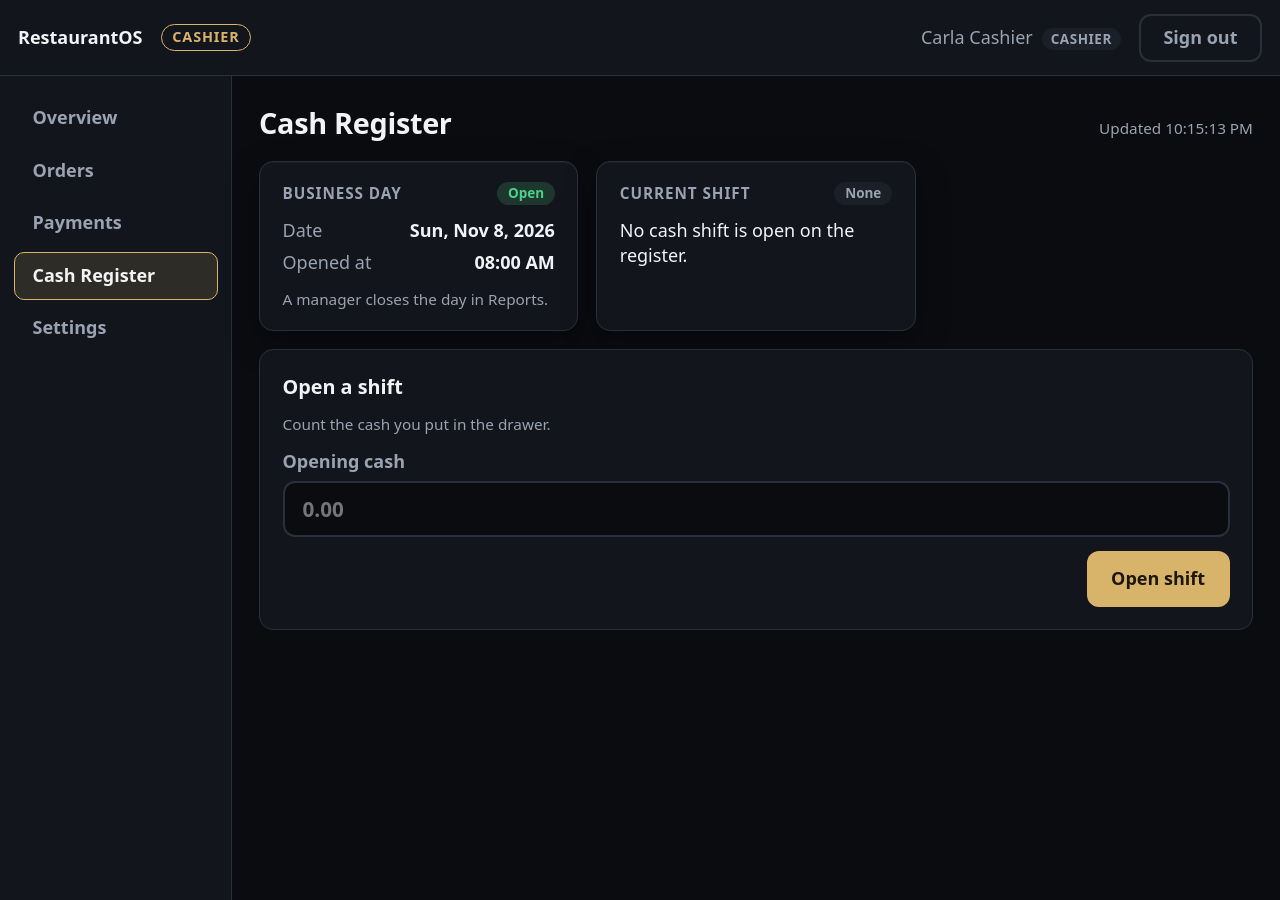
Test: opening a shift › opens the first shift with the counted opening cash
In the field labelled "Opening cash": (756, 509) [282,481,1230,537], type "150"
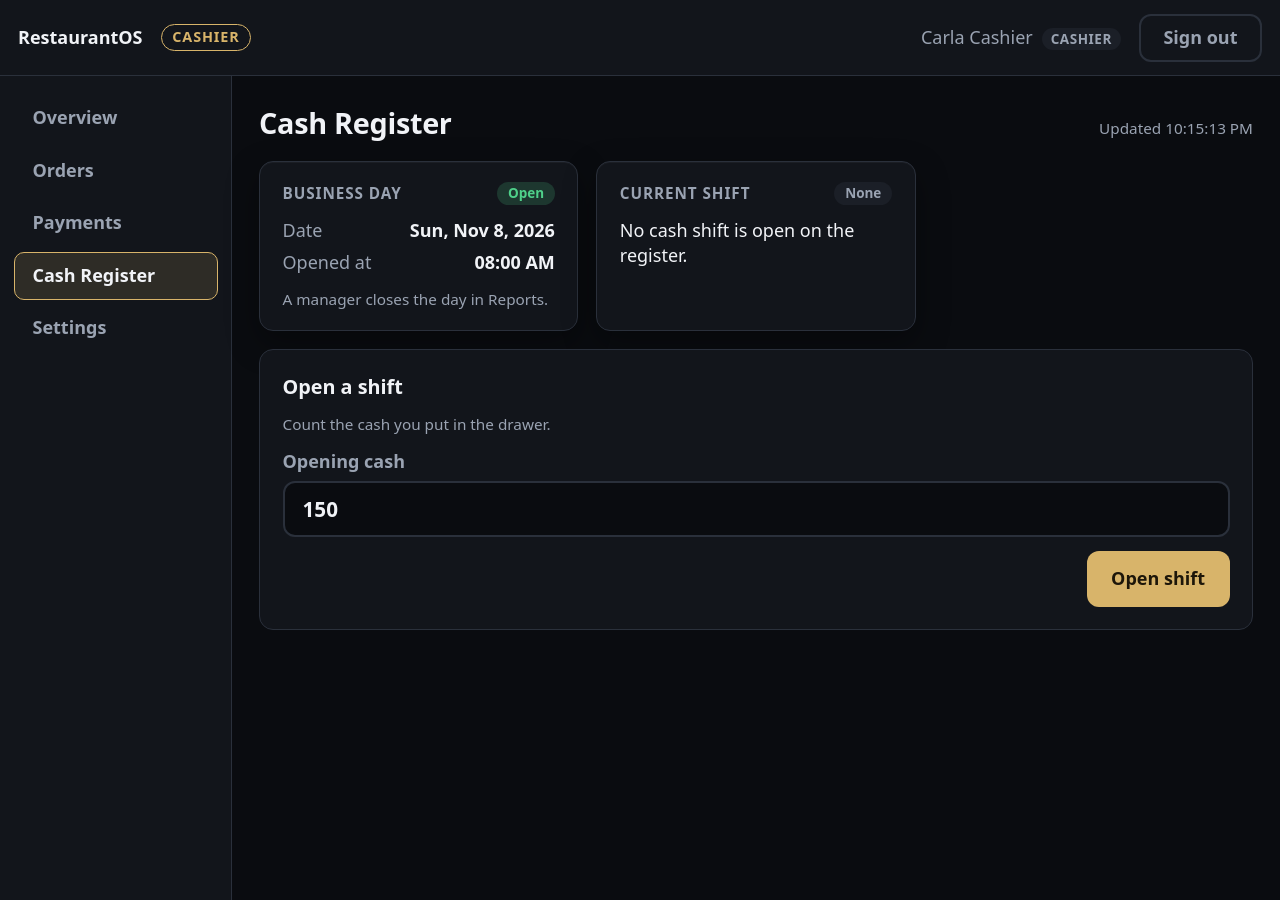
Click the button "Open shift": (1158, 579) [1087,551,1230,607]
(page scrolled)
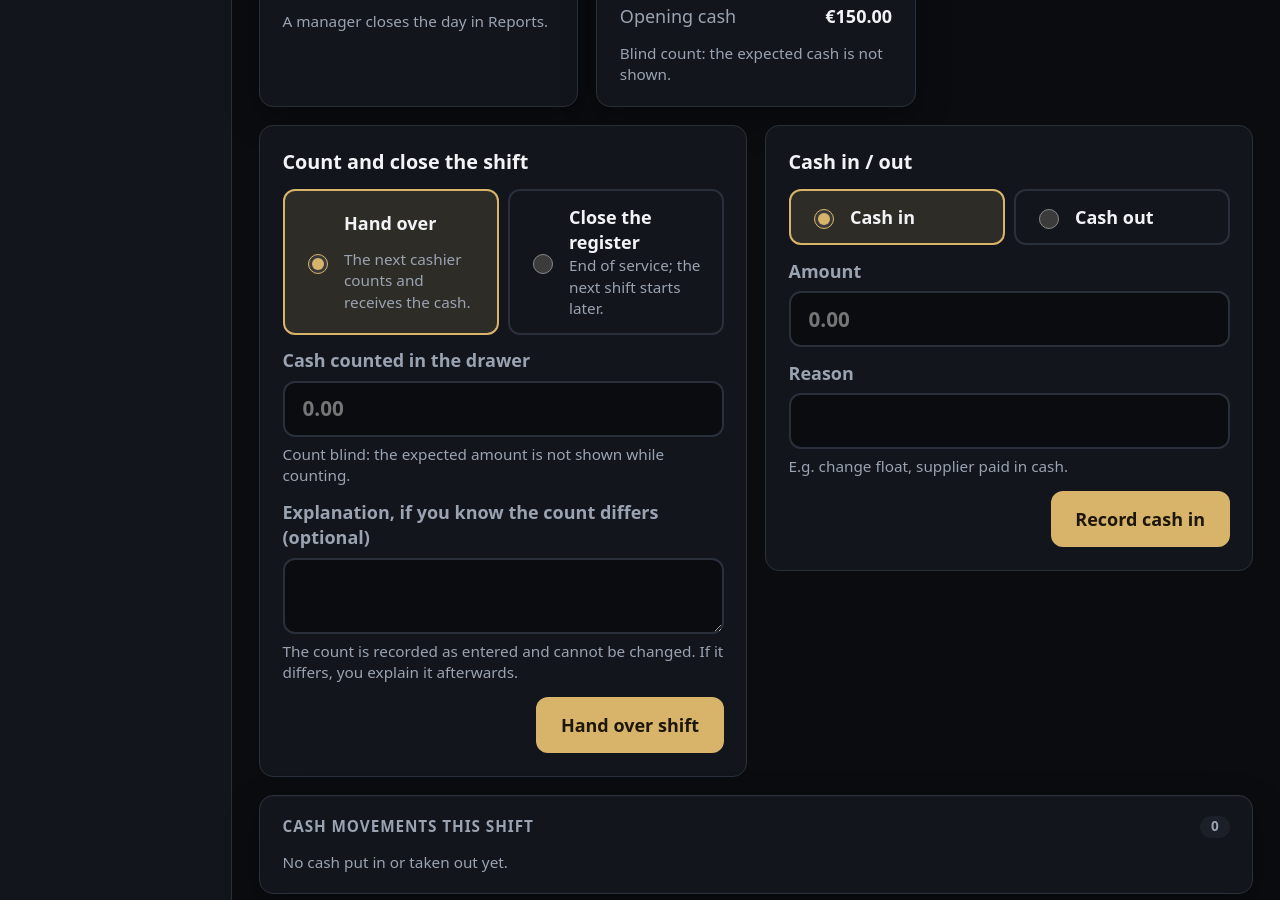
Check: the form "Count and close the shift" is shown, box [259,124,747,777]
